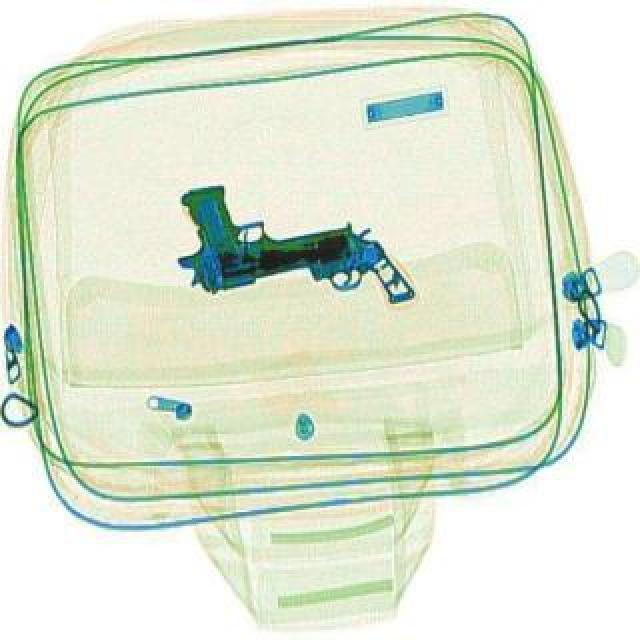gun: (158, 164, 362, 304), (214, 220, 414, 338)
